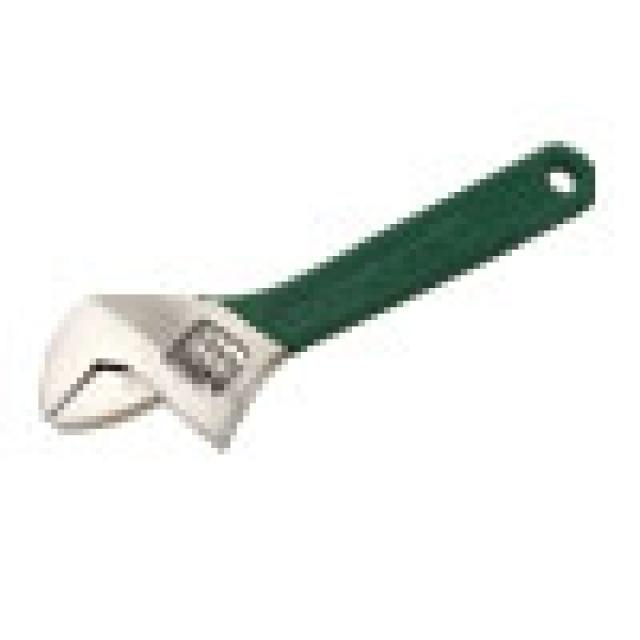wrench: (19, 128, 640, 486)
